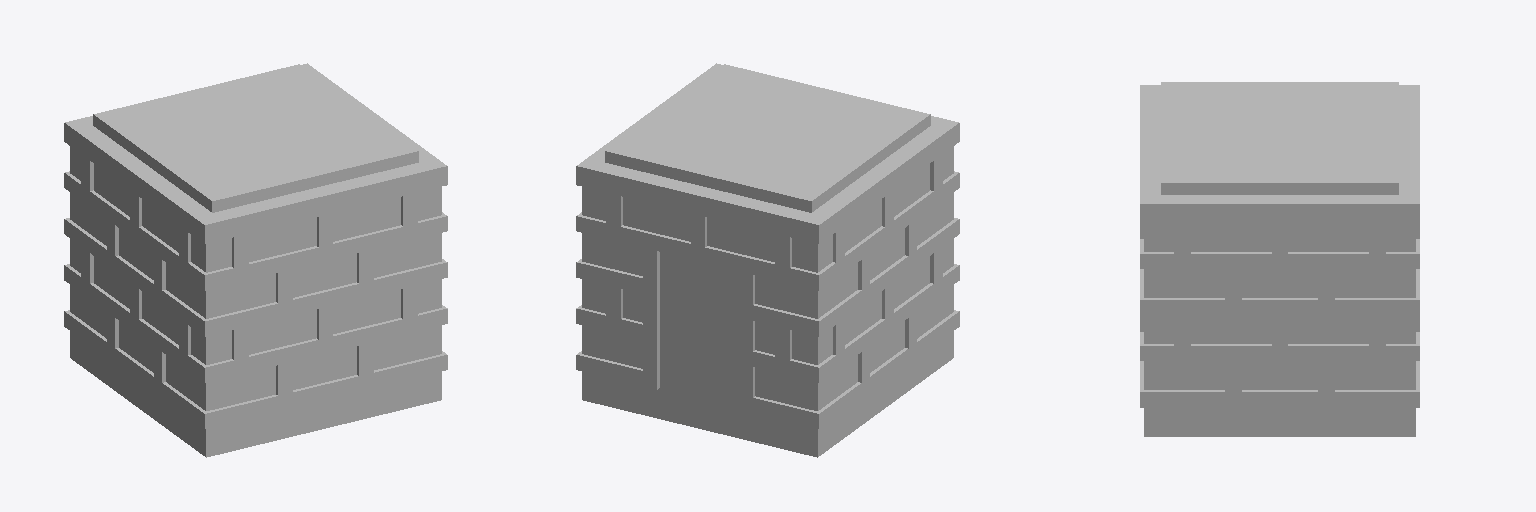
The model's file is cookstove_lit.obj.
3 views of the same model, side by side, from view 1: azimuth 30°, elevation 25°; view 2: azimuth 150°, elevation 25°; view 3: azimuth 270°, elevation 25° (orthographic).
Size of the model in its own units: 1.03 by 1 by 1.03.